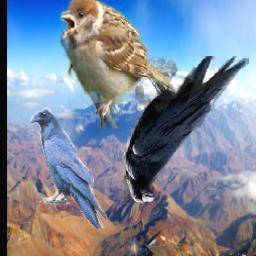Crow: (124, 56, 249, 203), (30, 108, 107, 230)
Sparrow: (59, 0, 175, 130)
